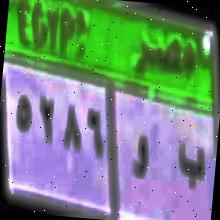2: (36, 87, 59, 148)
5: (12, 87, 34, 143)
6: (83, 109, 107, 165)
8: (61, 105, 86, 158)
baa: (174, 136, 210, 196)
waw: (127, 138, 154, 182)
